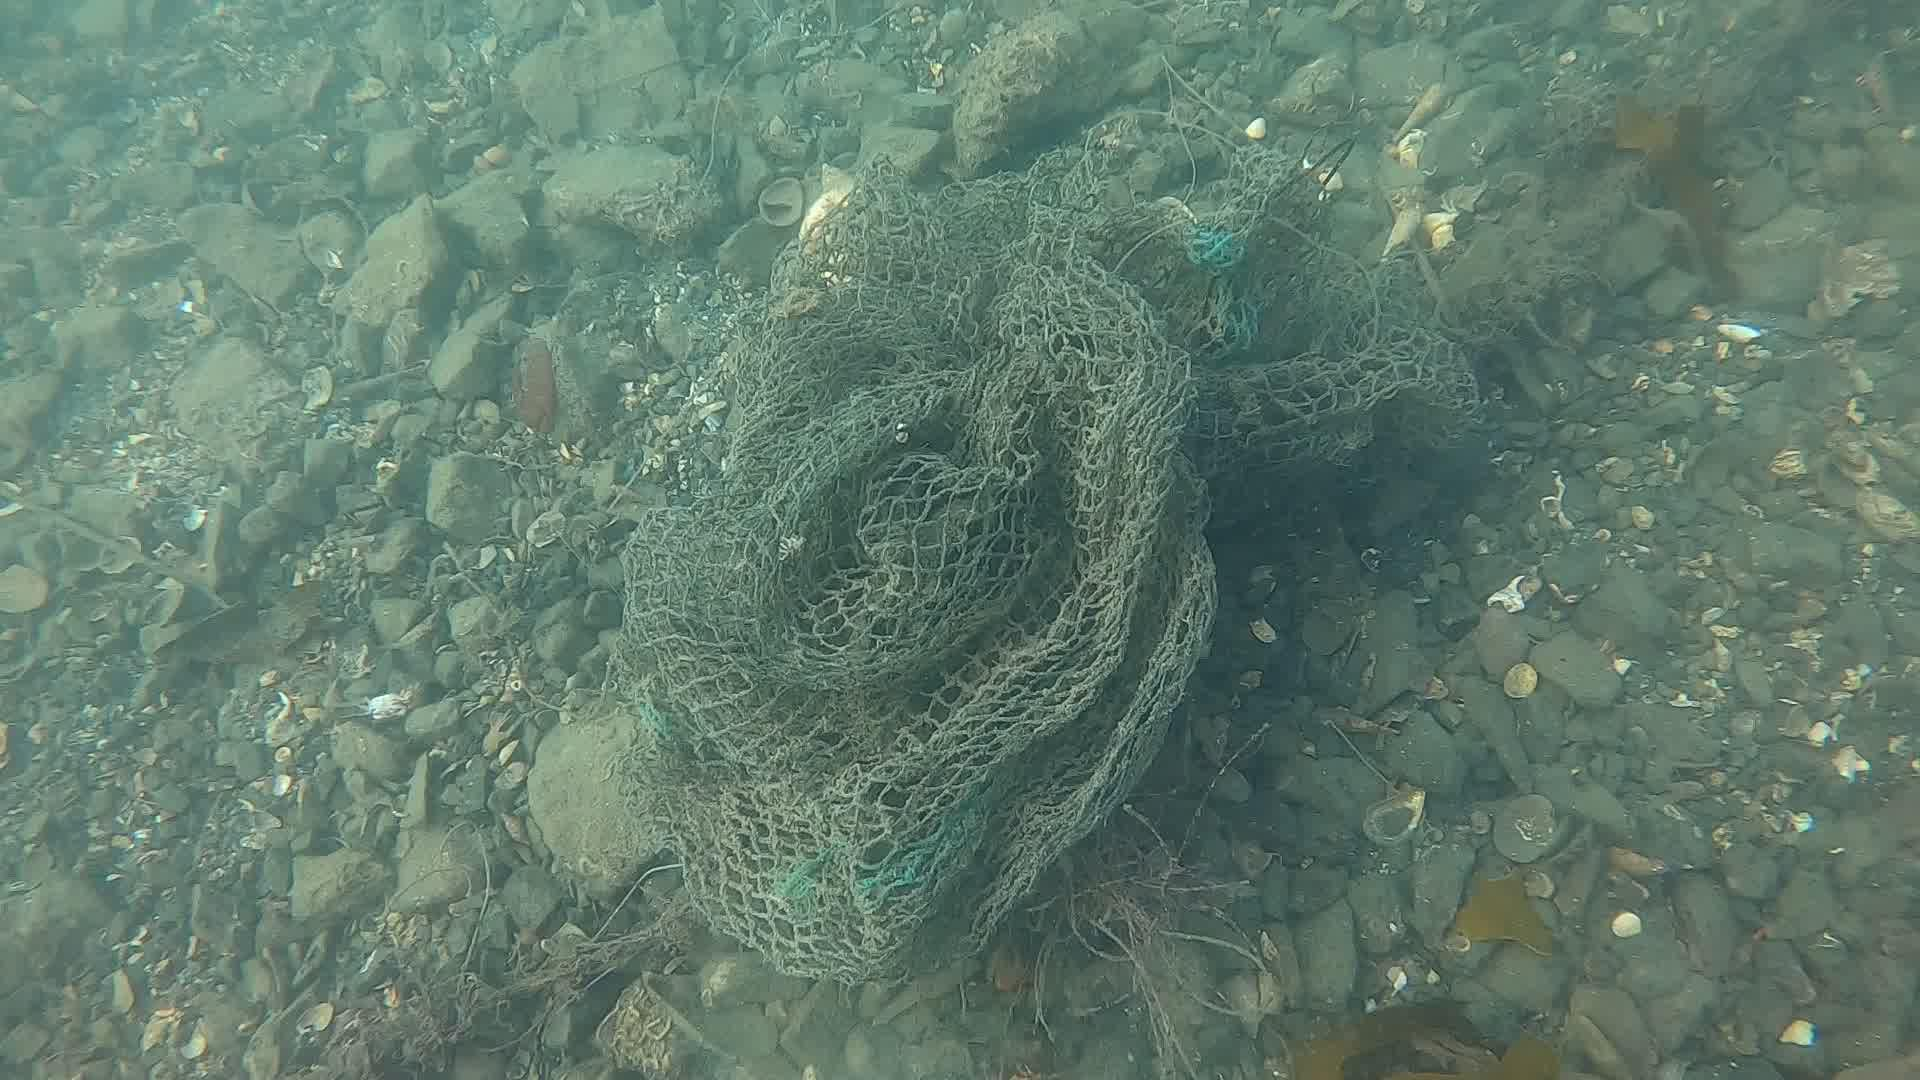fish net: (625, 152, 1433, 982)
